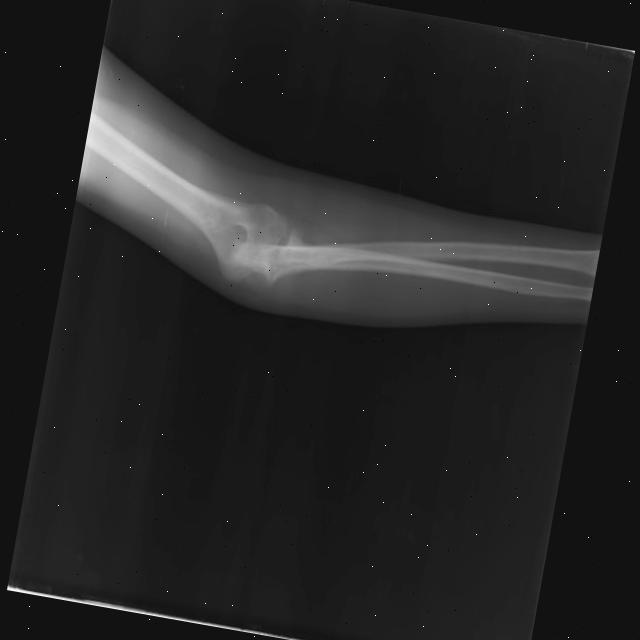Fracture: (252, 219, 300, 288)
